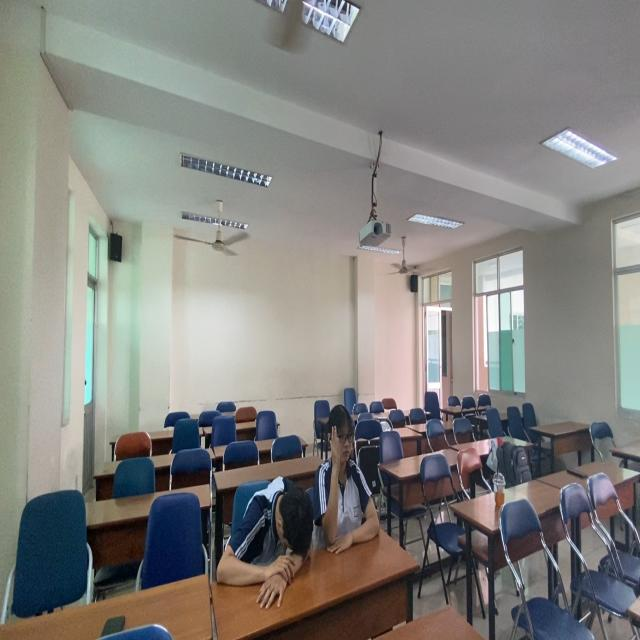raise_hand: (318, 395, 385, 554)
sleep: (214, 470, 317, 609)
